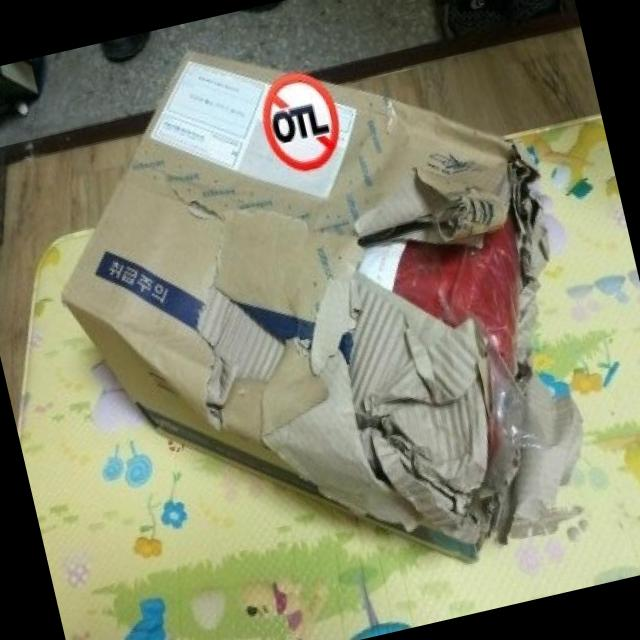box: (61, 51, 550, 564)
crushed: (100, 273, 276, 444), (430, 112, 529, 163)
tear: (340, 160, 547, 544)
